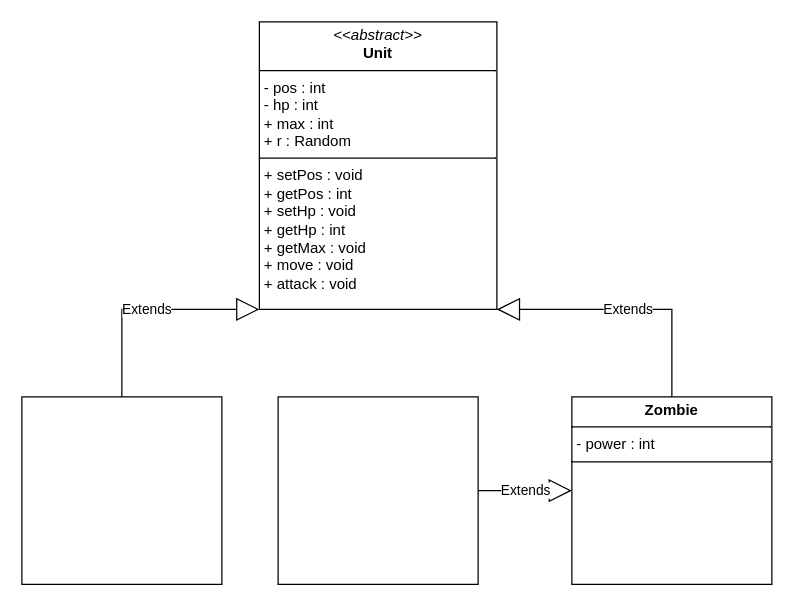
The diagram is 794 pixels wide and 606 high, and some of its shapes have lost their labels. Here are the shapes that lost their labels. From the top down, the box of each, then its label:
(21, 396, 222, 584): Hero - heal : int - power : int + heal : void + setHeal : void + getHeal : int
(277, 396, 478, 584): Boss + shield : int + getShield : int + setShield : void
